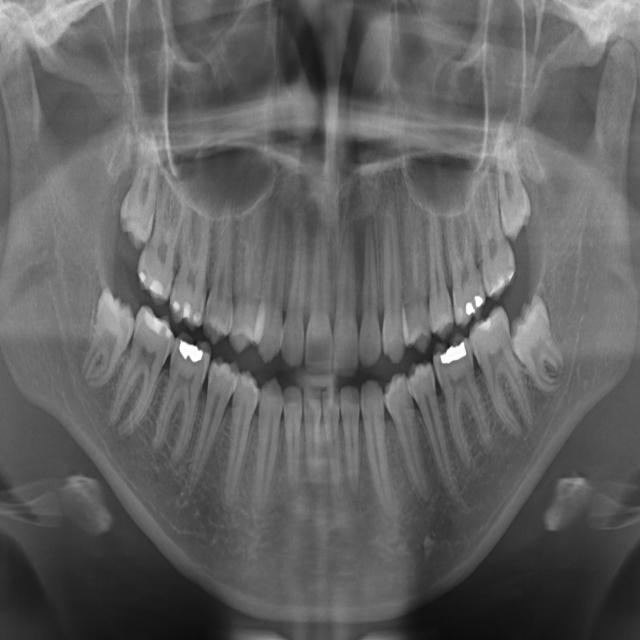AmalgamRestoration: (175, 338, 205, 368), (437, 342, 468, 369), (462, 298, 474, 318), (475, 291, 483, 307)
CompositeResinRestoration: (141, 304, 173, 345), (490, 276, 505, 300), (480, 312, 495, 332), (150, 281, 165, 298), (183, 304, 193, 325), (507, 268, 515, 291), (194, 312, 202, 332), (170, 297, 180, 312), (140, 265, 147, 284)
DentalCaries: (204, 300, 215, 326)
ImpactedTooth: (75, 290, 136, 378), (513, 277, 557, 383), (498, 118, 532, 240), (120, 158, 162, 244)
